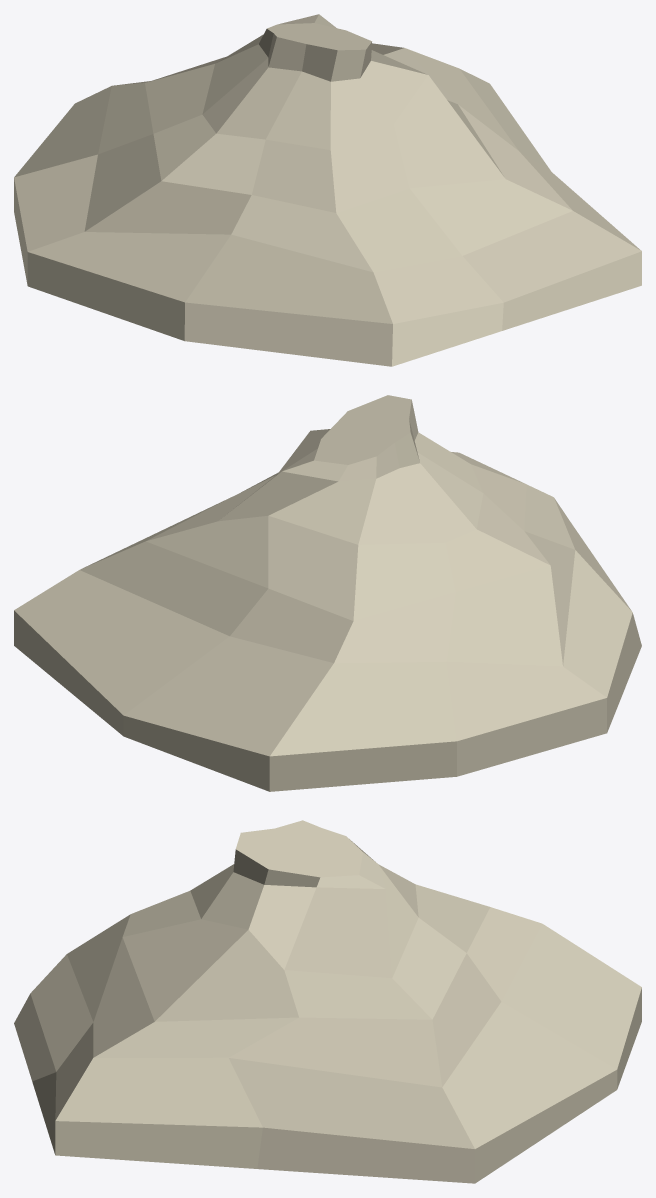
File: Rock_12.fbx
3 views of the same model, one above another, from view 1: azimuth 30°, elevation 25°; view 2: azimuth 150°, elevation 25°; view 3: azimuth 270°, elevation 25° (orthographic). The views are drawn at different scales.
Parts seen in each view (by area): view 1: Rock_12; view 2: Rock_12; view 3: Rock_12.
Part boxes in pixels (left/top/right/bottom): Rock_12: left=14, top=14, right=641, bottom=366; Rock_12: left=14, top=395, right=641, bottom=791; Rock_12: left=14, top=820, right=641, bottom=1183.
Size of the model in its own units: 12.29 by 4.96 by 12.86.
